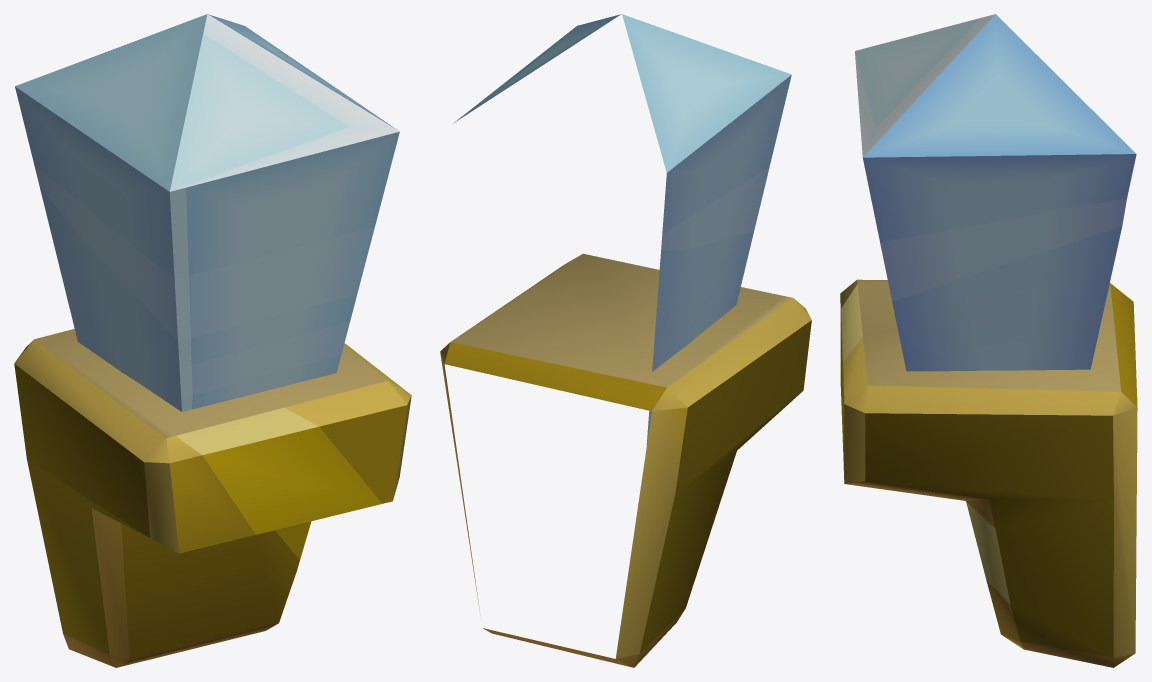
File: PenglantisSconceCrystal_0.glb
The picture shows the model from 3 angles, left to right: view 1: azimuth 30°, elevation 25°; view 2: azimuth 150°, elevation 25°; view 3: azimuth 270°, elevation 25°; orthographic projection. The views are drawn at different scales.
Visible parts, largest first — view 1: PenglantisSconceCrystal; view 2: PenglantisSconceCrystal; view 3: PenglantisSconceCrystal.
Boxes of the visible parts, x1,y1,x2,y2 form: PenglantisSconceCrystal: [14, 14, 411, 667]; PenglantisSconceCrystal: [440, 14, 811, 667]; PenglantisSconceCrystal: [840, 14, 1137, 667].
Bounding box in the file's own units: 0.5815 × 1.33 × 0.5806.
